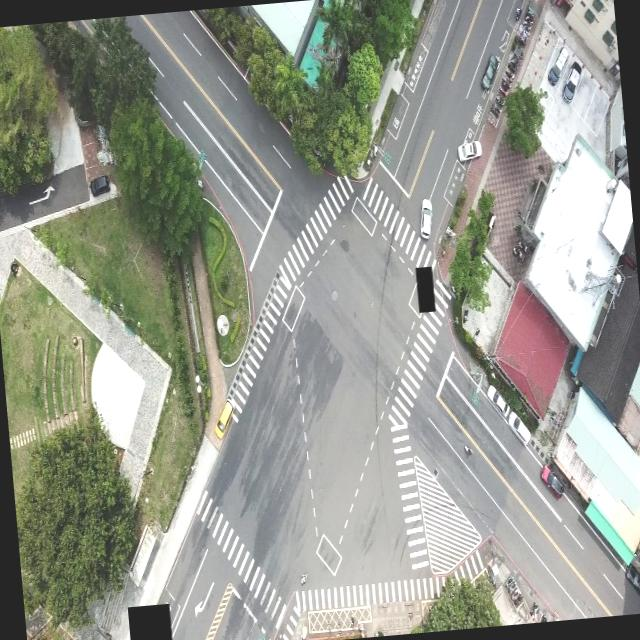bike: (463, 436, 475, 459)
car: (558, 59, 584, 103), (486, 376, 509, 424), (544, 44, 570, 86), (538, 462, 564, 501), (212, 399, 236, 440), (510, 407, 532, 450), (478, 52, 502, 90), (416, 197, 434, 239), (625, 559, 640, 606), (88, 172, 112, 196), (457, 140, 483, 162)
